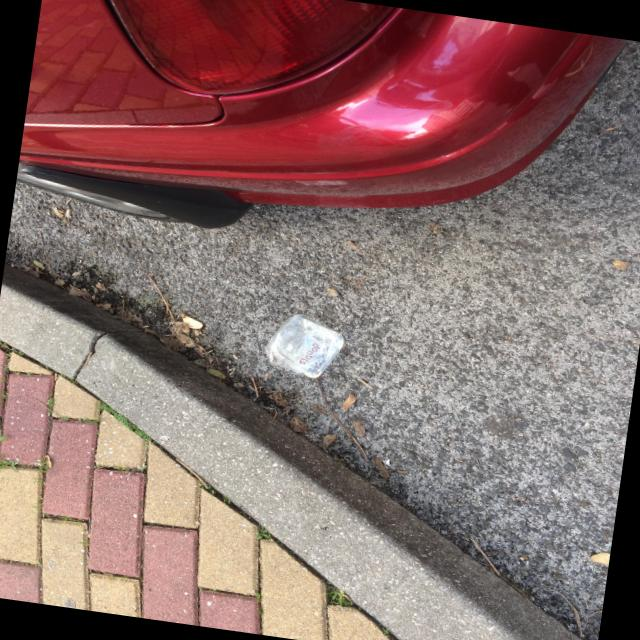less trash: (265, 314, 344, 379)
